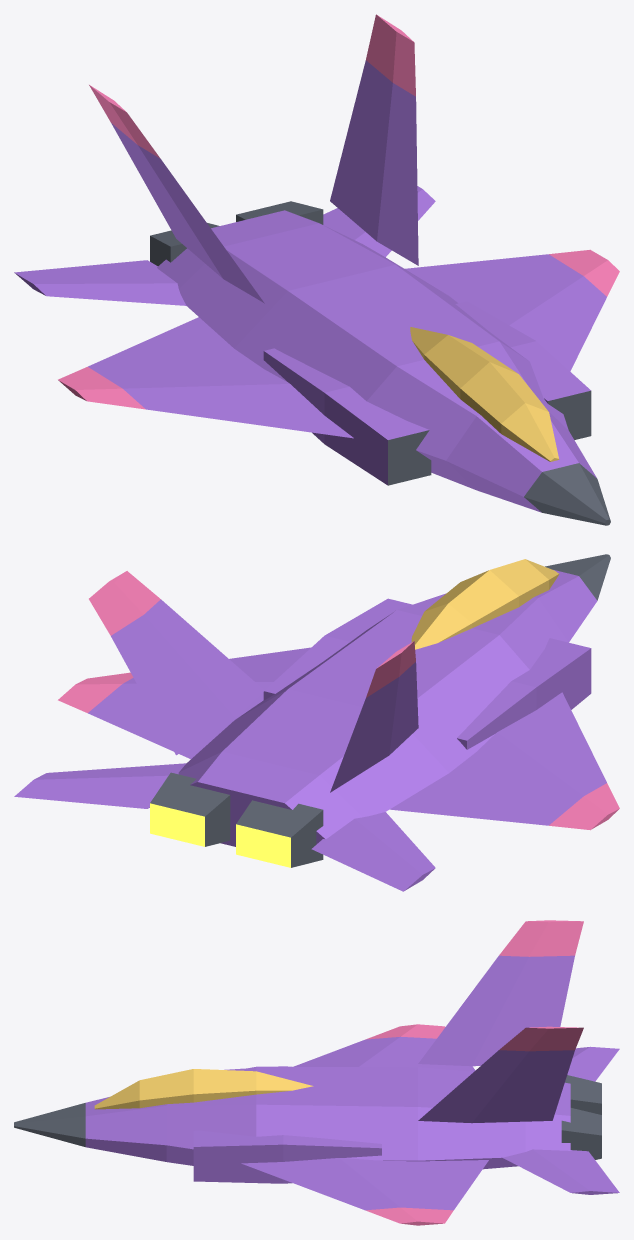
File: jet_f22.glb
3 views of the same model, one above another, from view 1: azimuth 30°, elevation 25°; view 2: azimuth 150°, elevation 25°; view 3: azimuth 270°, elevation 25° (orthographic). The views are drawn at different scales.
Parts seen in each view (by area): view 1: LowPolyJet_F22; view 2: LowPolyJet_F22; view 3: LowPolyJet_F22.
Boxes of the visible parts, x1,y1,x2,y2 form: LowPolyJet_F22: [14, 14, 619, 525]; LowPolyJet_F22: [14, 554, 619, 891]; LowPolyJet_F22: [14, 920, 619, 1225].
Size of the model in its own units: 5.2 by 2.23 by 6.75.
